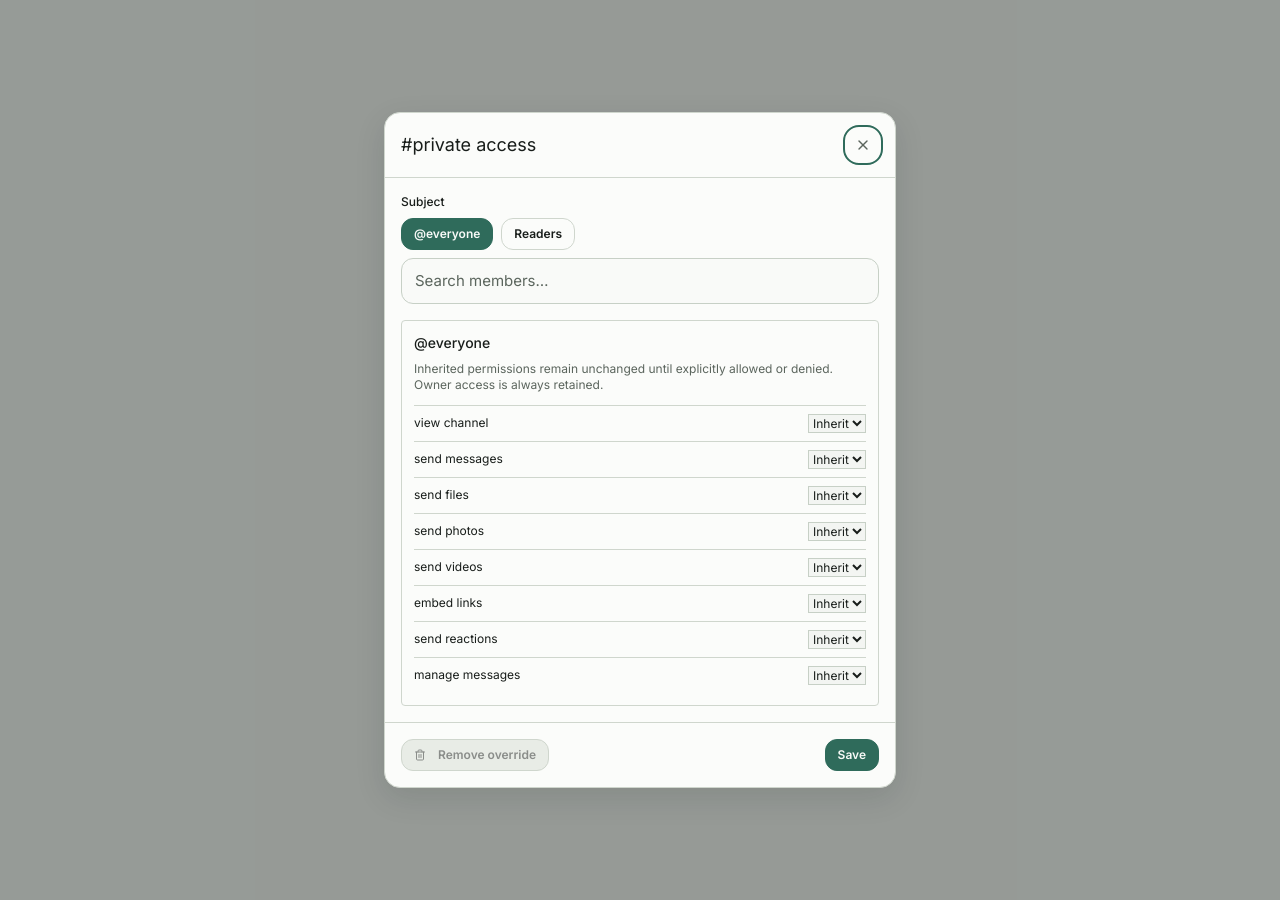
ChannelAccessEditor › searches and selects a member subject
Type "mem" into the field with placeholder "Search members…" at (640,281), box [401, 258, 879, 304]
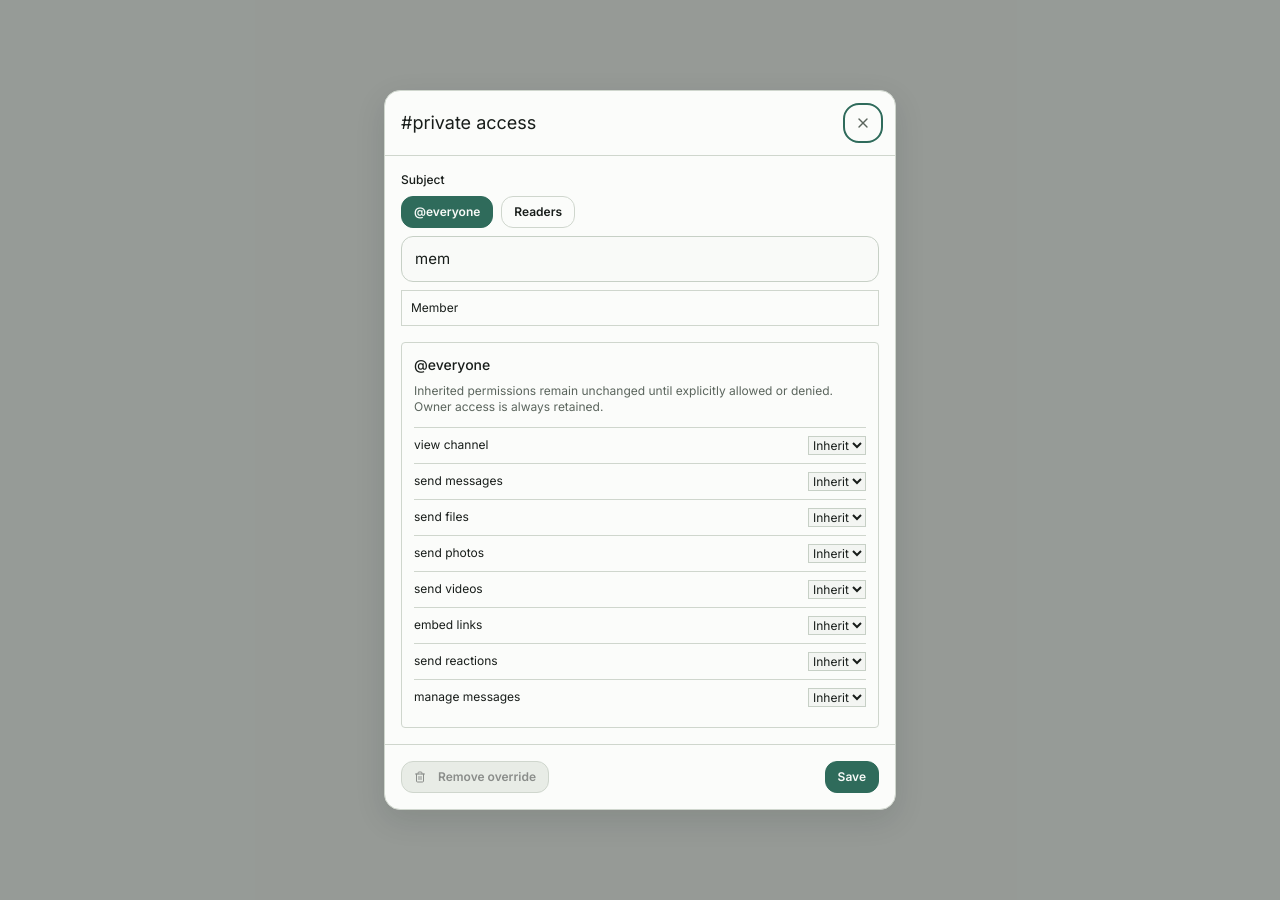
Click the button "Member" at (435,307), box [402, 291, 878, 325]
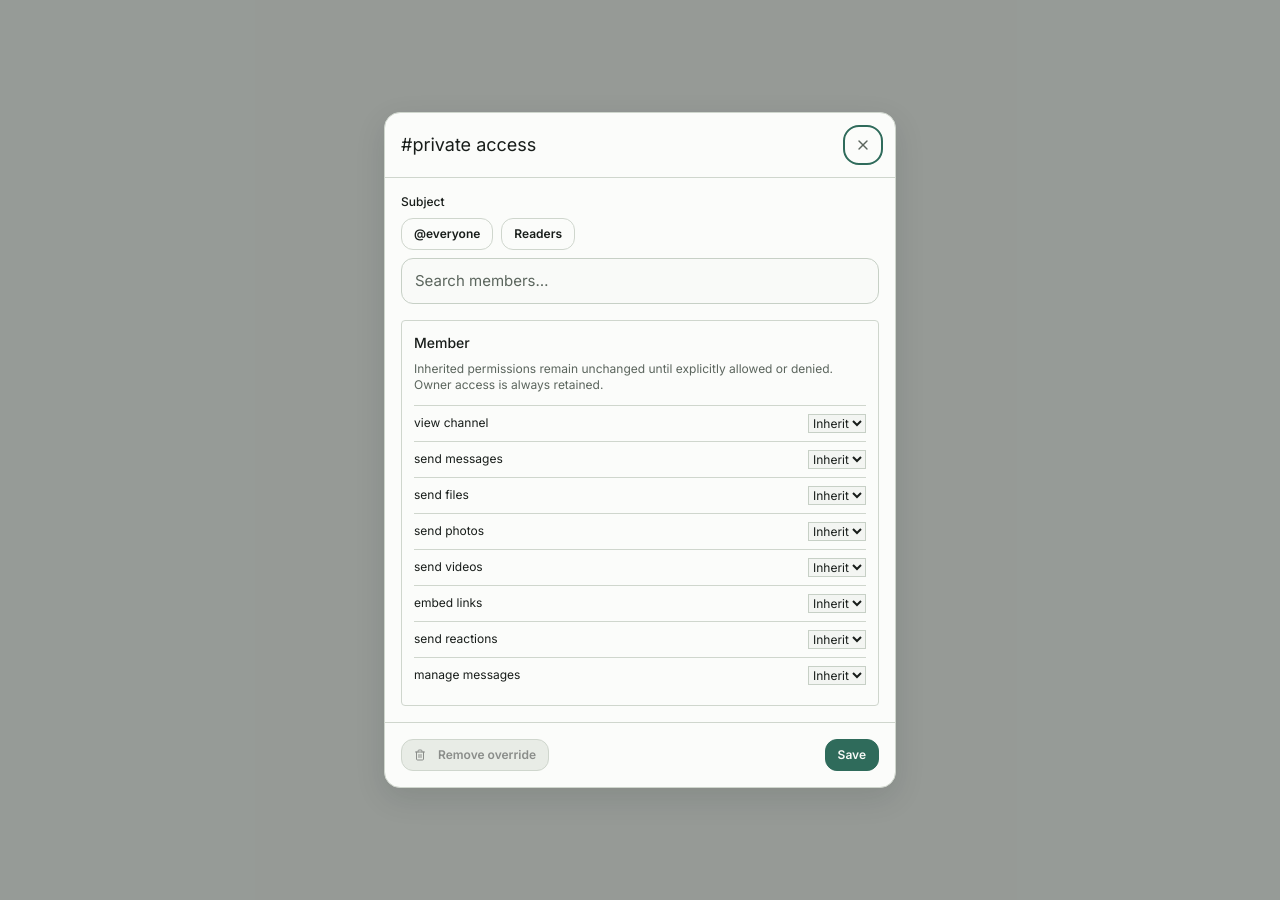
Expected: the text "Member" is shown, [414, 334, 470, 351]
